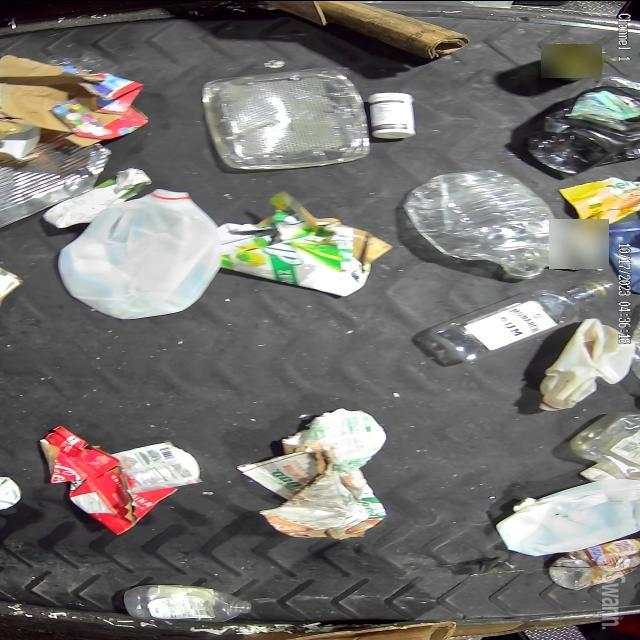milk_jug: (58, 189, 222, 319), (497, 476, 639, 557)
plastic_bottle: (427, 278, 615, 361)
